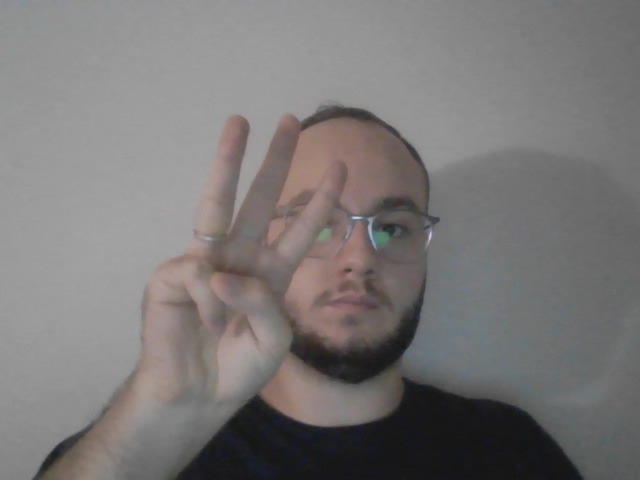Three: (142, 112, 349, 421)
